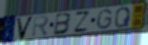B: (53, 12, 73, 37)
G: (95, 8, 114, 31)
Q: (114, 6, 132, 29)
R: (31, 15, 51, 39)
V: (15, 15, 35, 40)
Z: (72, 11, 91, 34)
